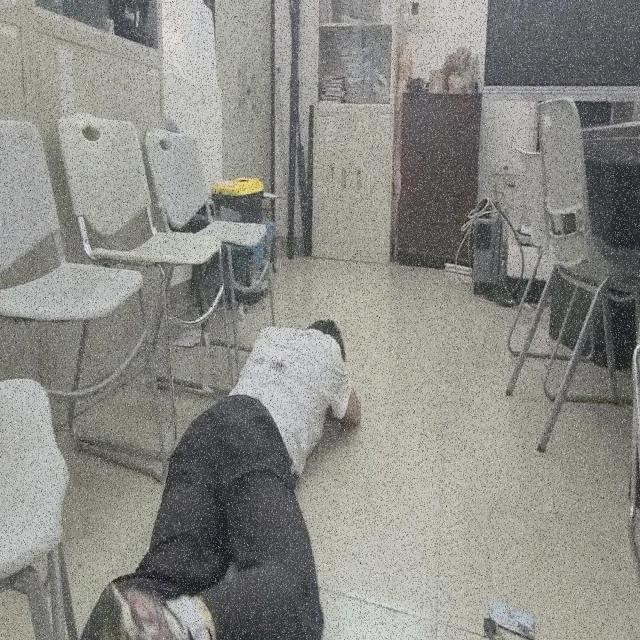fall: (66, 316, 362, 640)
